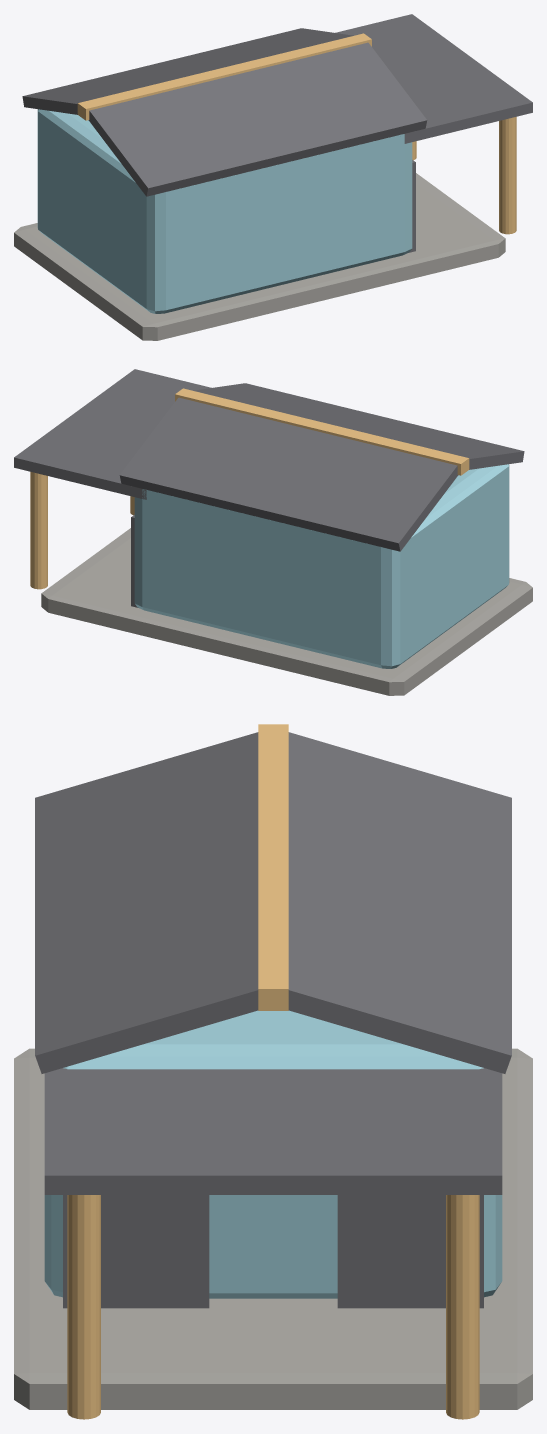
File: terminal-depot.glb
3 renders of one model, top to bottom at view 1: azimuth 30°, elevation 25°; view 2: azimuth 150°, elevation 25°; view 3: azimuth 270°, elevation 25°, orthographic. The views are drawn at different scales.
Visible parts, largest first — view 1: depot_hall, depot_roof.001, depot_slab, depot_canopy, depot_roof, depot_ridge, depot_post.001; view 2: depot_hall, depot_roof, depot_slab, depot_canopy, depot_roof.001, depot_ridge, depot_post; view 3: depot_slab, depot_roof, depot_roof.001, depot_canopy, depot_hall, depot_bay, depot_bay.001, depot_ridge, depot_post, depot_post.001.
Part boxes in pixels (x1=…): depot_hall: x1=37, y1=109, x2=412, y2=313; depot_roof.001: x1=88, y1=42, x2=427, y2=196; depot_slab: x1=14, y1=173, x2=505, y2=340; depot_canopy: x1=335, y1=14, x2=532, y2=143; depot_roof: x1=22, y1=28, x2=353, y2=114; depot_ridge: x1=77, y1=33, x2=371, y2=120; depot_post.001: x1=499, y1=117, x2=516, y2=234; depot_hall: x1=134, y1=464, x2=509, y2=668; depot_roof: x1=119, y1=397, x2=458, y2=551; depot_slab: x1=41, y1=528, x2=532, y2=695; depot_canopy: x1=14, y1=369, x2=211, y2=499; depot_roof.001: x1=193, y1=383, x2=524, y2=469; depot_ridge: x1=175, y1=388, x2=469, y2=475; depot_post: x1=30, y1=472, x2=47, y2=589; depot_slab: x1=14, y1=1048, x2=532, y2=1409; depot_roof: x1=288, y1=732, x2=511, y2=1073; depot_roof.001: x1=35, y1=732, x2=258, y2=1073; depot_canopy: x1=44, y1=1068, x2=502, y2=1194; depot_hall: x1=44, y1=1010, x2=502, y2=1298; depot_bay: x1=337, y1=1195, x2=483, y2=1308; depot_bay.001: x1=63, y1=1195, x2=209, y2=1308; depot_ridge: x1=258, y1=724, x2=288, y2=1010; depot_post: x1=446, y1=1195, x2=479, y2=1419; depot_post.001: x1=67, y1=1195, x2=100, y2=1419.
Size of the model in its own units: 2.82 by 1.28 by 1.7.
